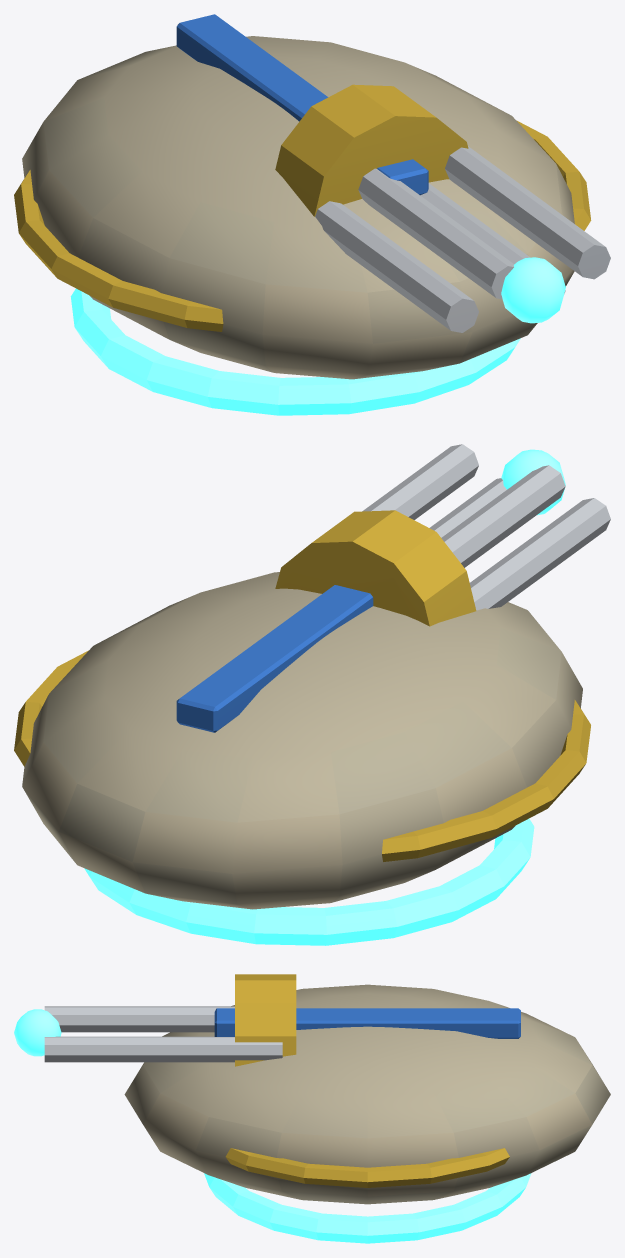
The model's file is baliste.glb.
3 views of the same model, one above another, from view 1: azimuth 30°, elevation 25°; view 2: azimuth 150°, elevation 25°; view 3: azimuth 270°, elevation 25° (orthographic). The views are drawn at different scales.
Parts seen in each view (by area): view 1: baliste; view 2: baliste; view 3: baliste.
Boxes of the visible parts, x1,y1,x2,y2 form: baliste: [14, 14, 610, 415]; baliste: [14, 444, 610, 945]; baliste: [14, 974, 610, 1243].
Bounding box in the file's own units: 1.22 × 0.6346 × 1.75.
